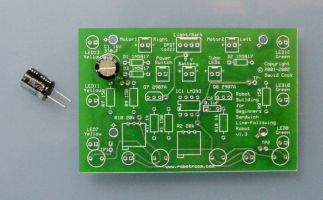capacitor: (20, 68, 55, 101), (95, 55, 119, 78)
